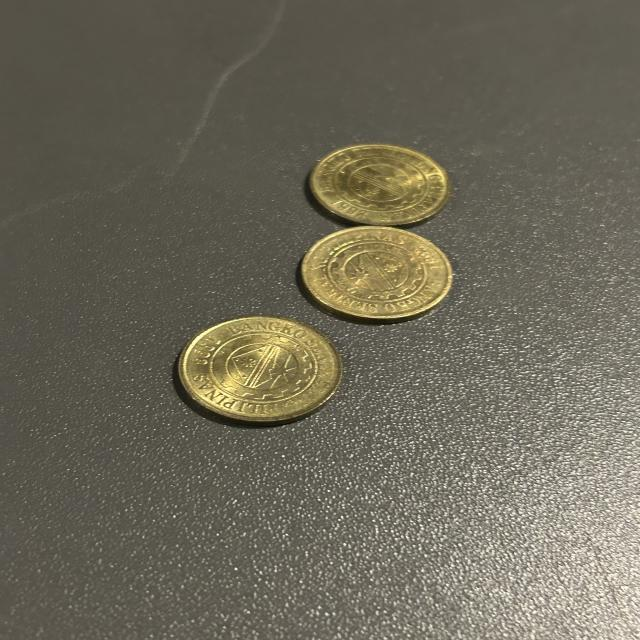25Cent_Old_Back: (317, 227, 432, 319), (197, 327, 315, 410), (330, 148, 421, 224)
